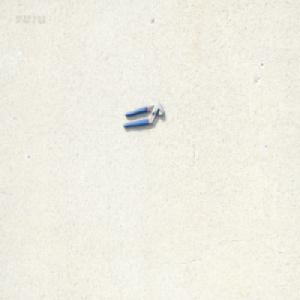Pliers: (121, 101, 165, 129)
